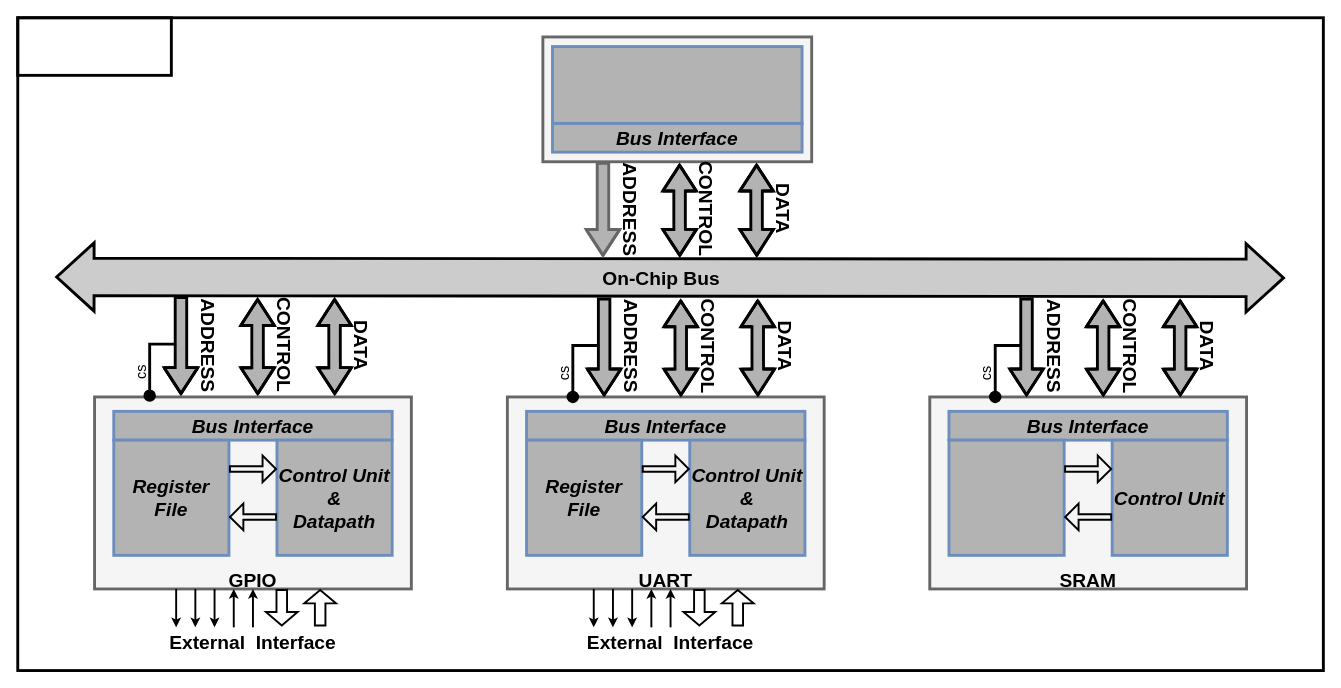
This 1341x688 diagram has some shape labels left out. The shapes that lost their labels are listed below. From the top down, each one's box as (x1, y1, x2, y2) in pixels, then its label:
(16, 16, 172, 76): MC2101
(551, 45, 803, 124): AFTAB
(947, 438, 1065, 556): MEMORY
